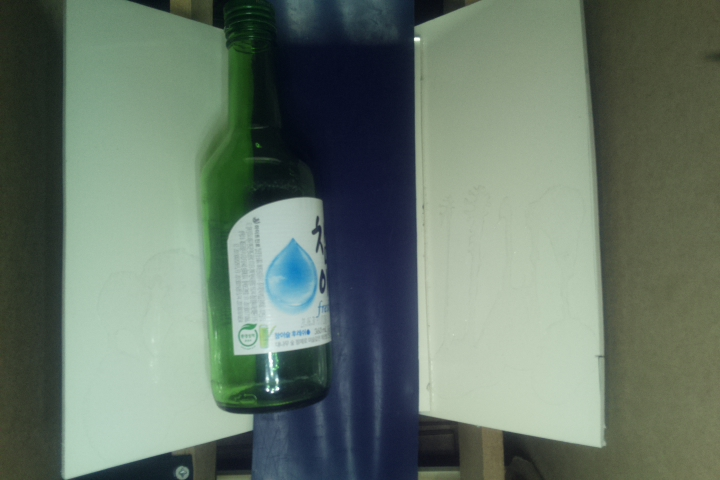soju: (198, 1, 332, 419)
